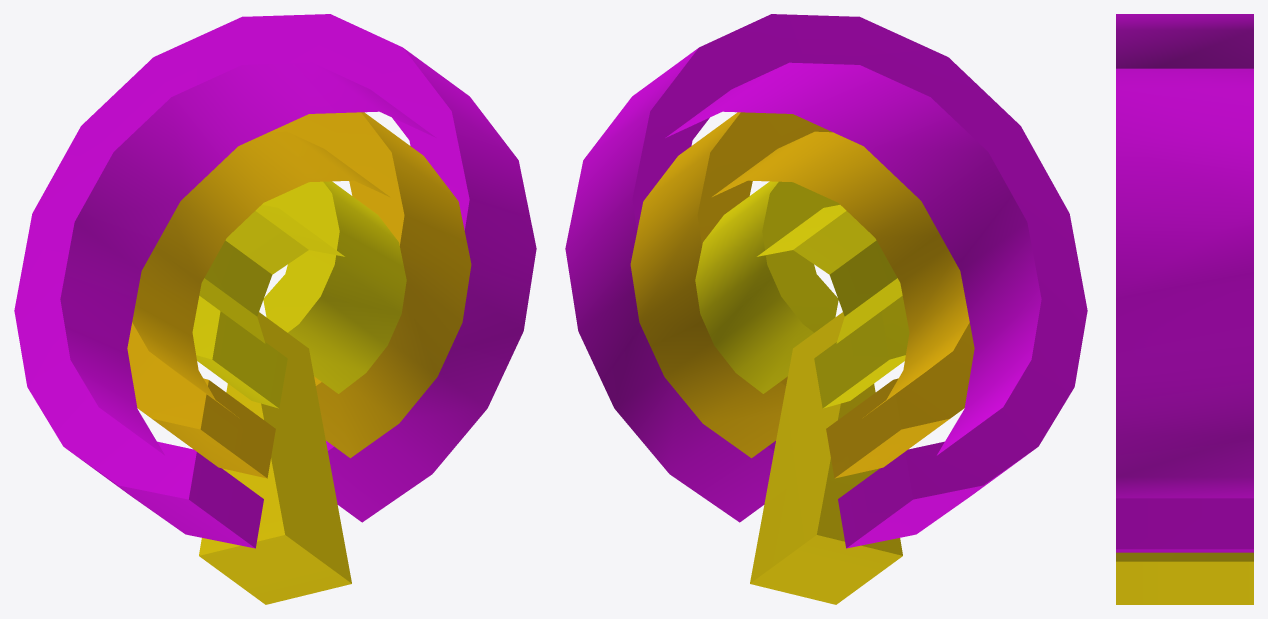
The model's file is ps2_save-icons_fantavision.glb.
3 renders of one model, left to right at view 1: azimuth 30°, elevation 25°; view 2: azimuth 150°, elevation 25°; view 3: azimuth 270°, elevation 25°, orthographic. The views are drawn at different scales.
Visible parts, largest first — view 1: fanta1.ico; view 2: fanta1.ico; view 3: fanta1.ico.
Boxes of the visible parts, x1,y1,x2,y2 form: fanta1.ico: (14, 14, 536, 604); fanta1.ico: (565, 14, 1087, 604); fanta1.ico: (1116, 14, 1253, 604).
Bounding box in the file's own units: 4.48 × 4.97 × 1.14.
1 material, 1 textured.
